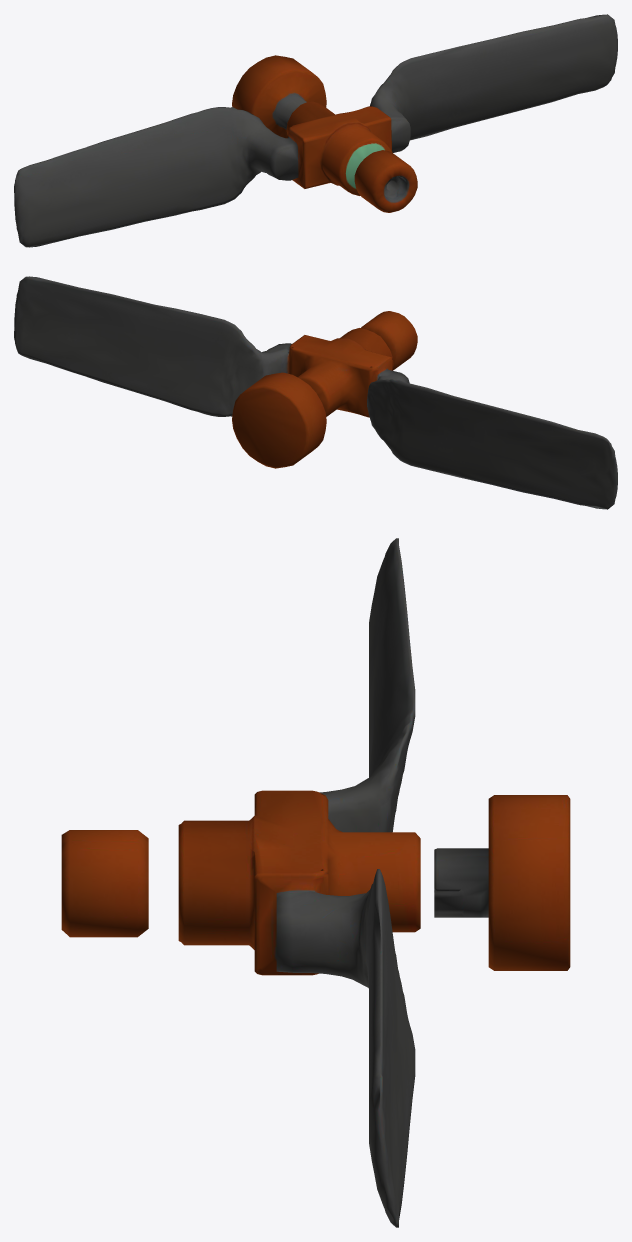
Rendered from tail-rotor.glb.
3 views of the same model, one above another, from view 1: azimuth 30°, elevation 25°; view 2: azimuth 150°, elevation 25°; view 3: azimuth 270°, elevation 25° (orthographic). The views are drawn at different scales.
Visible parts, largest first — view 1: Tail rotor; view 2: Tail rotor; view 3: Tail rotor.
Part boxes in pixels (x1,y1,x2,y2): Tail rotor: [14, 14, 617, 247]; Tail rotor: [14, 276, 617, 509]; Tail rotor: [61, 538, 570, 1227].
Size of the model in its own units: 0.998 by 0.1582 by 0.3652.
1 material, 1 textured.
